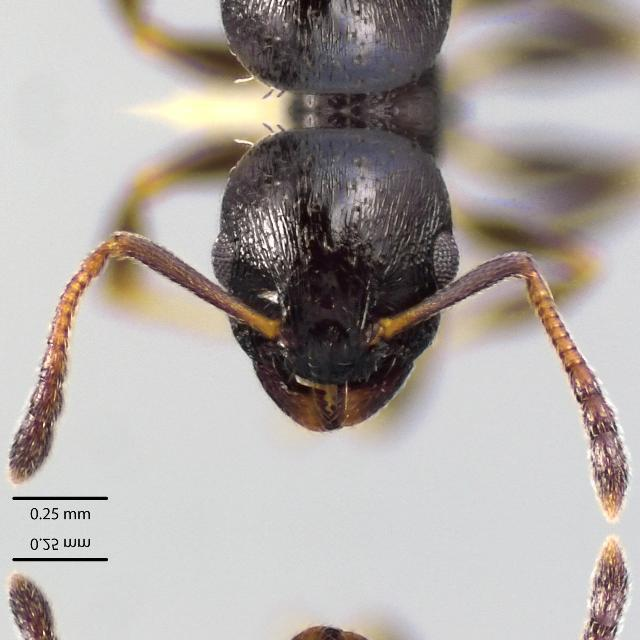Tetramorium: (46, 110, 636, 492), (46, 0, 636, 110)
